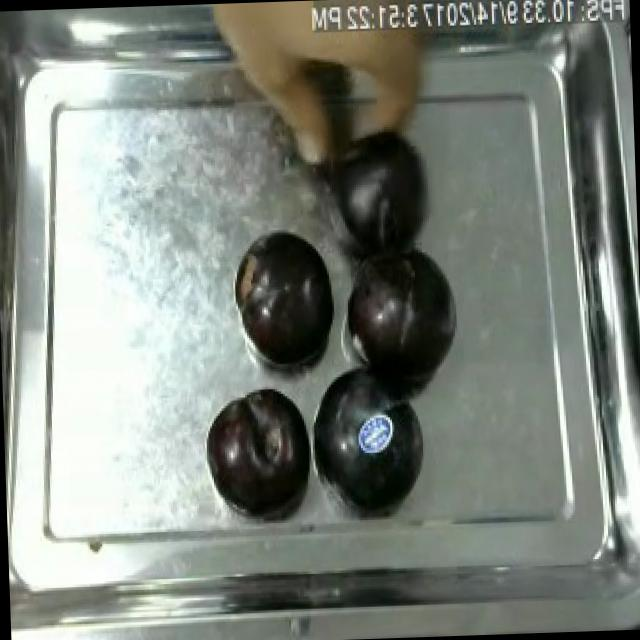Fruit: (303, 352, 433, 516), (336, 235, 466, 394), (227, 220, 346, 378), (202, 380, 317, 520), (329, 125, 438, 262)
